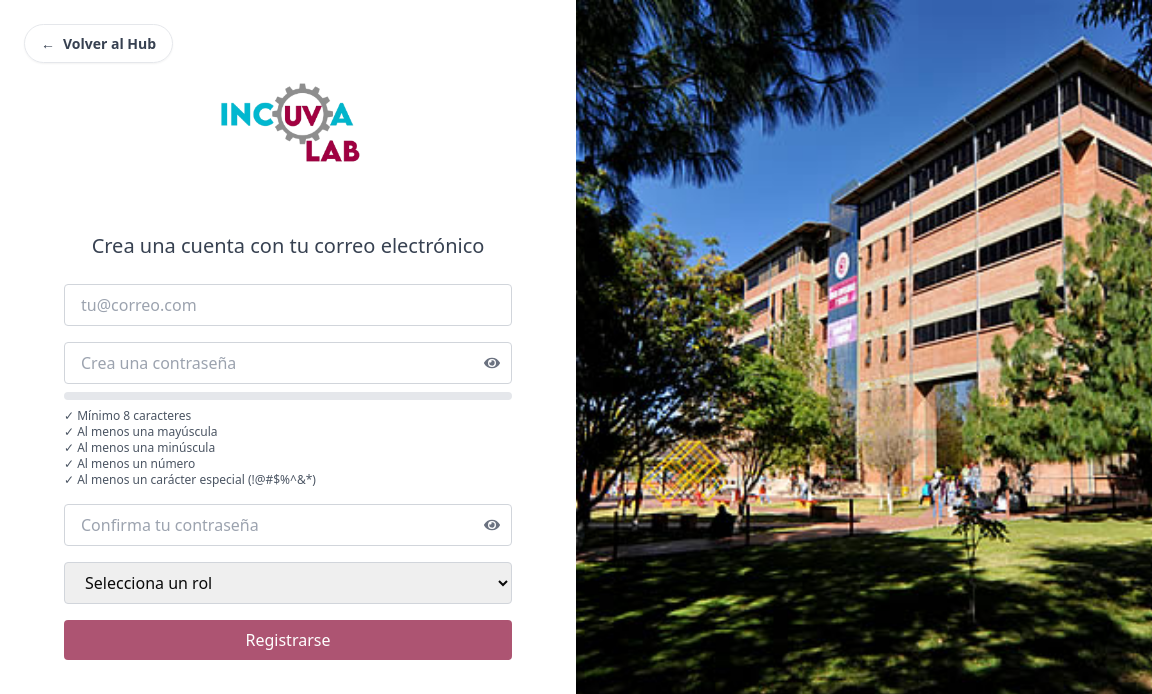
Test case: RegisterForm › envía el registro a la API y muestra confirmación en caso de éxito
This screenshot has width=1152, height=694.
Step 1. Type "Clave123!" into the password field with placeholder "Crea una contraseña" → (288, 363), box [64, 342, 512, 384]
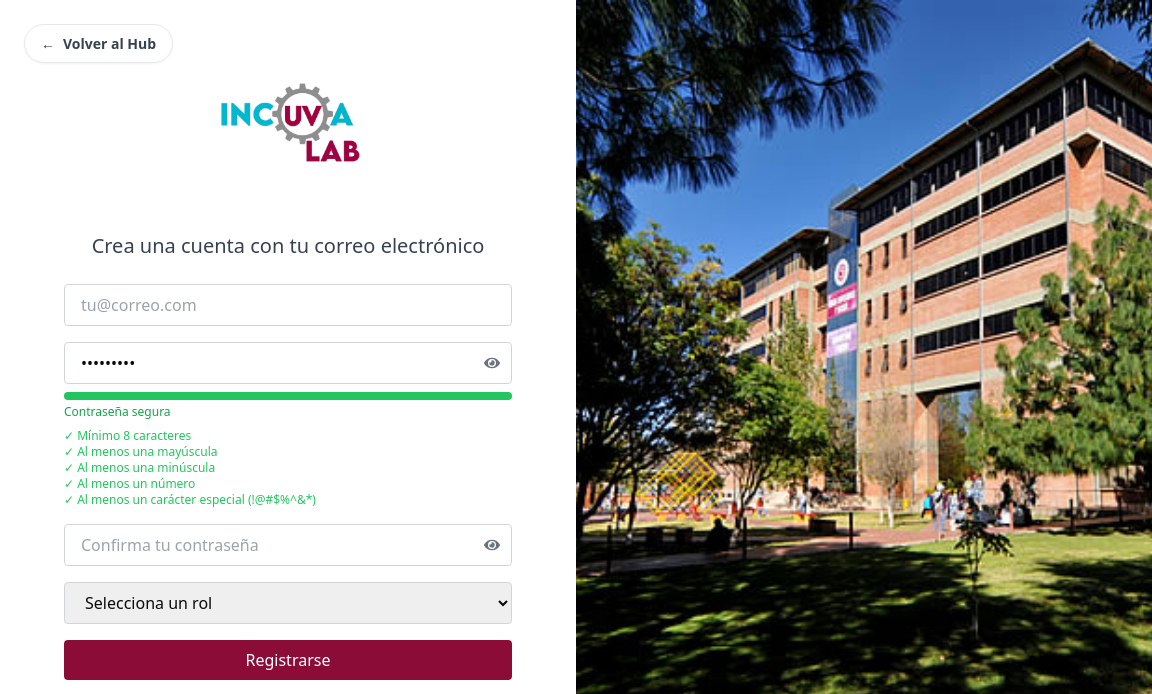
Step 2. Type "Clave123!" into the password field with placeholder "Confirma tu contraseña" → (288, 545), box [64, 524, 512, 566]
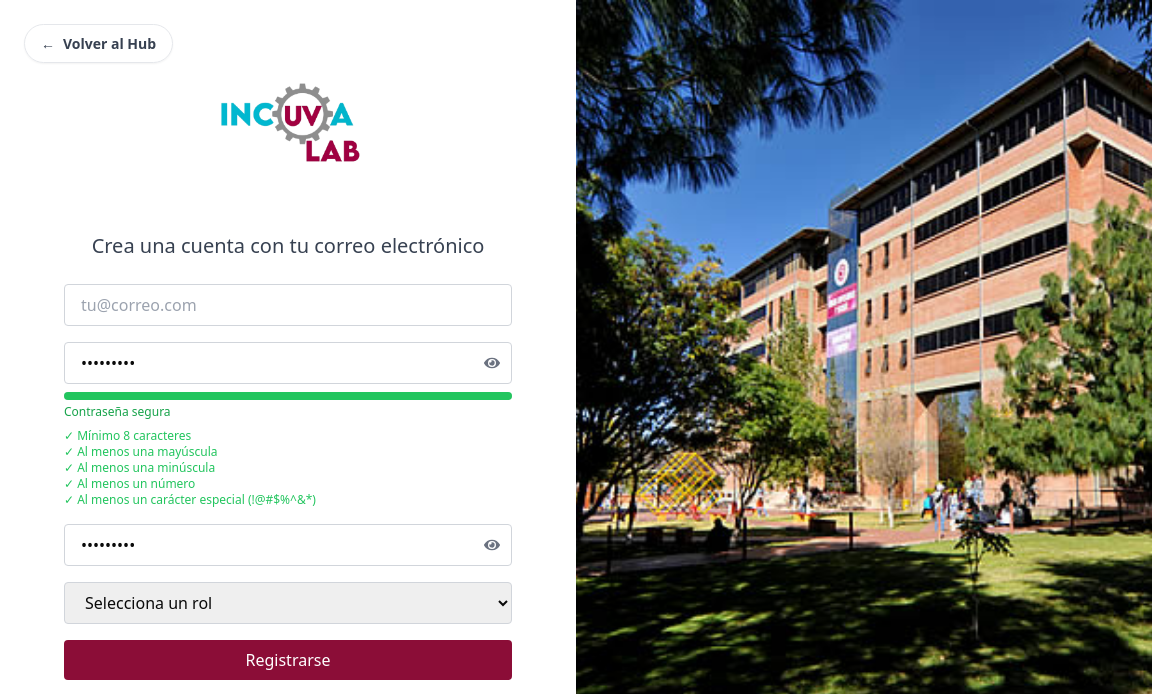
Step 3. Type "test@example.com" into the field with placeholder "tu@correo.com" → (288, 305), box [64, 284, 512, 326]
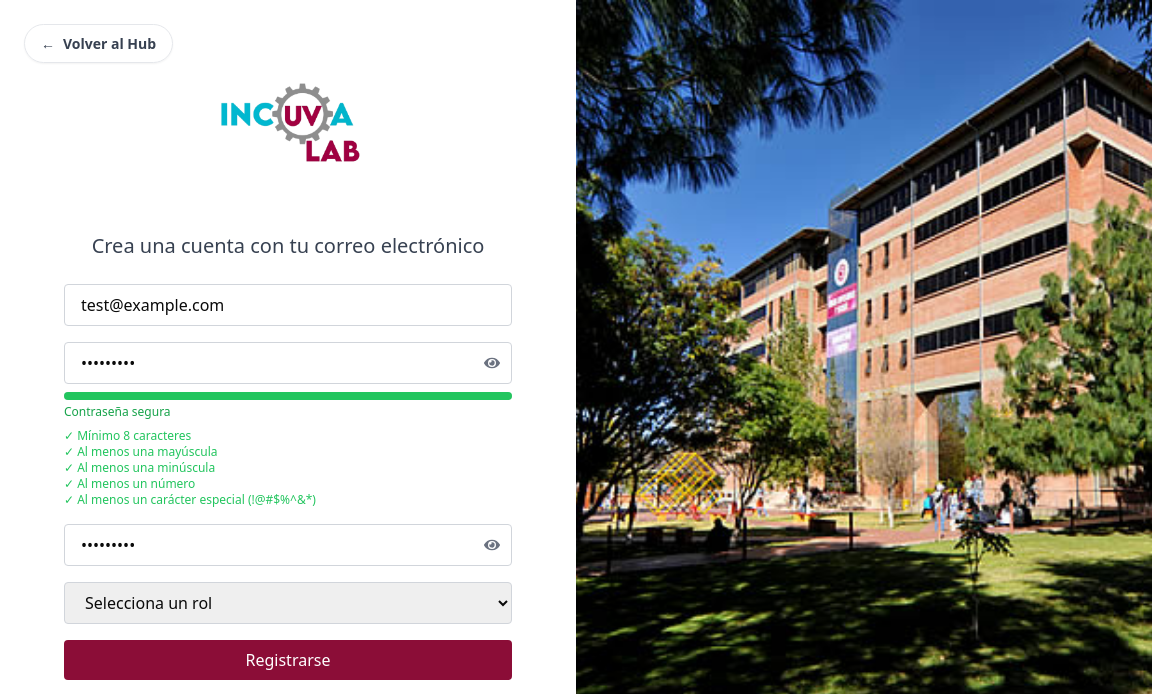
Step 4. Select "Emprendedor" in the dropdown → (288, 603), box [64, 582, 512, 624]
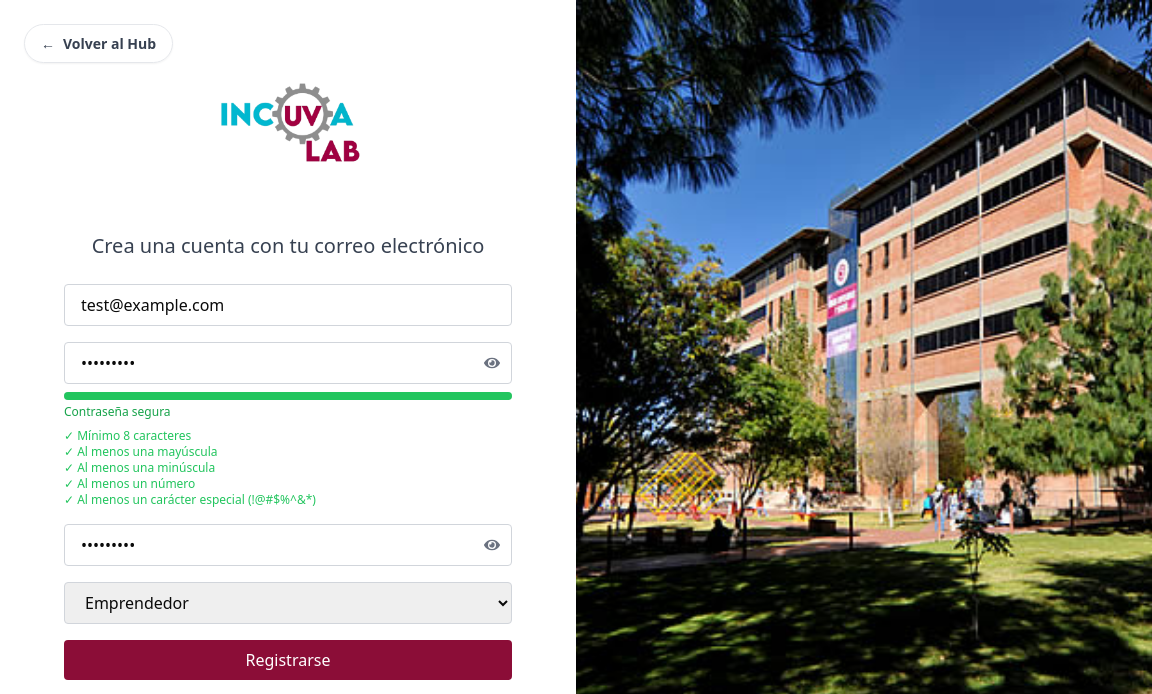
Step 5. Click the button "Registrarse" → (288, 660), box [64, 640, 512, 680]
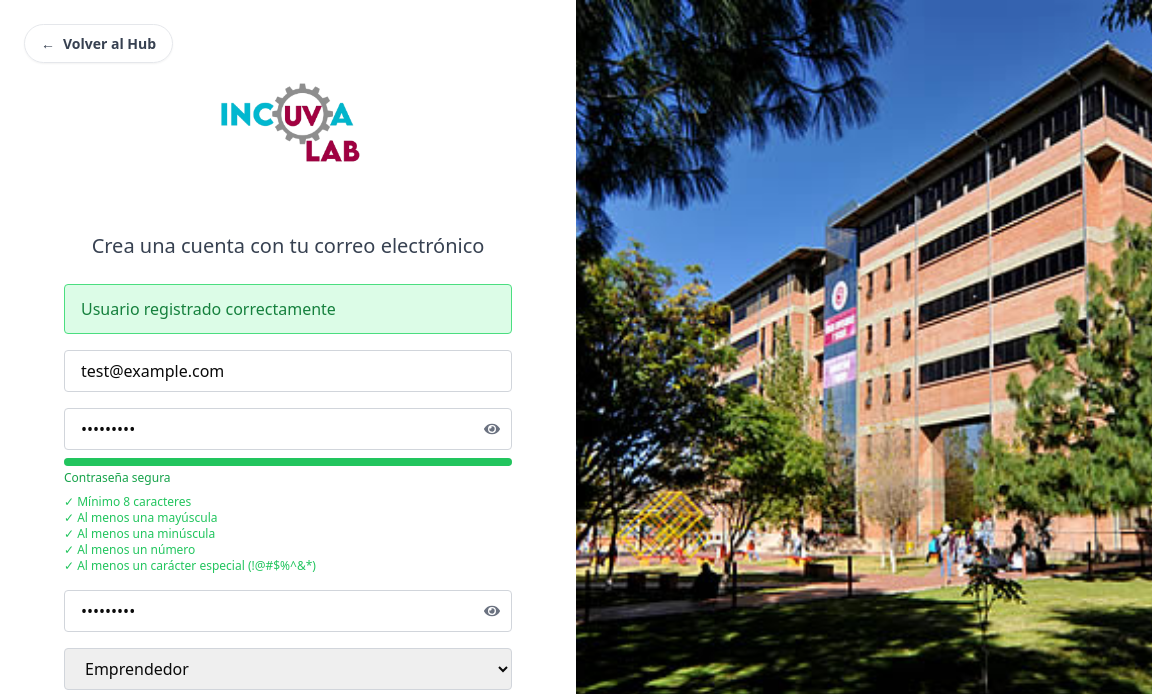
Expected: the text "Usuario registrado correctamente" is shown, [64, 284, 512, 334]
